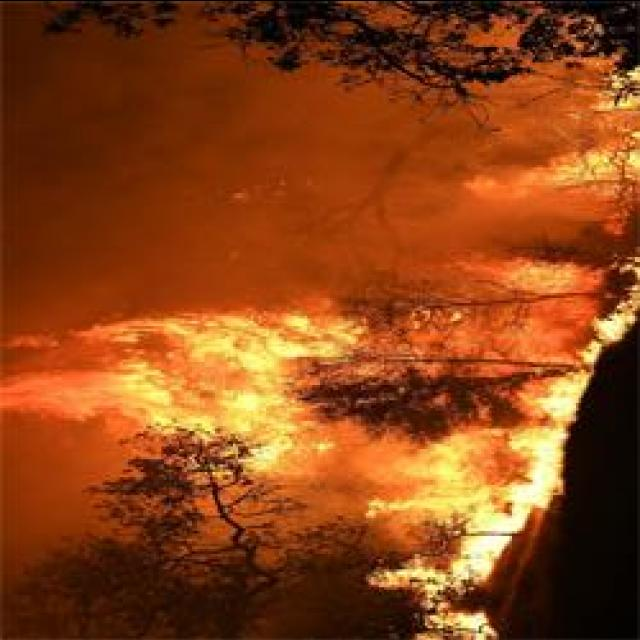fire: (128, 368, 279, 424), (365, 446, 482, 516), (167, 322, 351, 360), (8, 378, 136, 422), (510, 419, 560, 512), (462, 496, 514, 574), (547, 149, 640, 186), (548, 376, 582, 419), (600, 308, 630, 348)
smoke: (448, 192, 598, 240)
